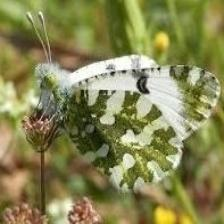butterfly: (39, 55, 221, 192)
